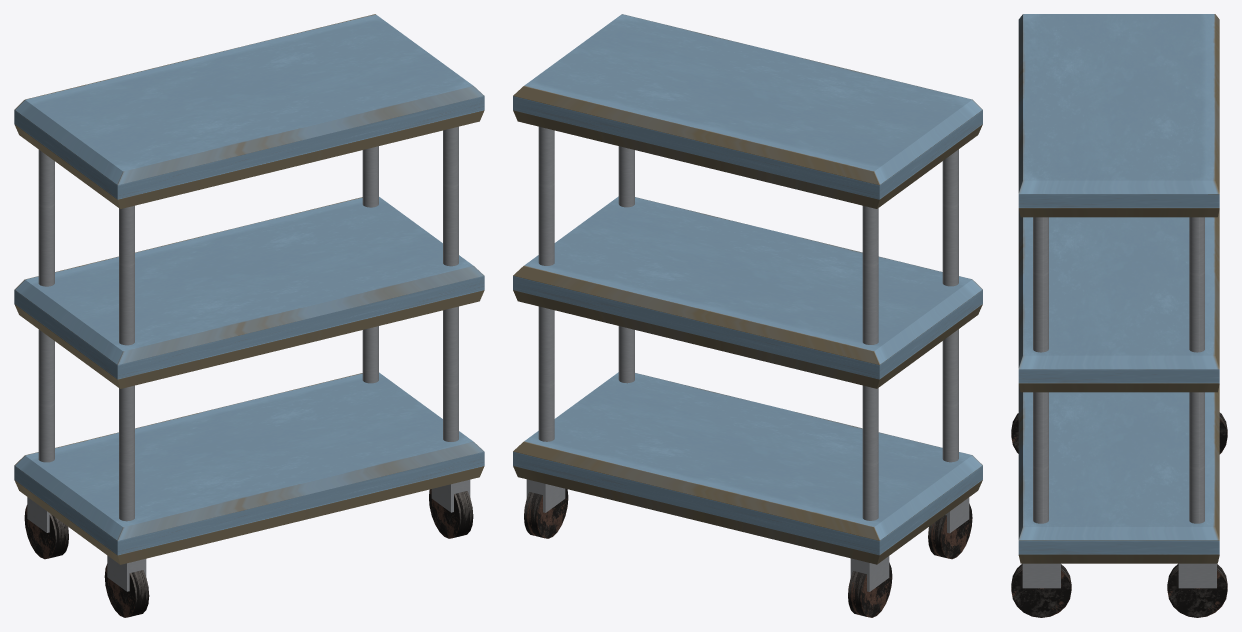
The model's file is Instrument Table.fbx.
The picture shows the model from 3 angles, left to right: view 1: azimuth 30°, elevation 25°; view 2: azimuth 150°, elevation 25°; view 3: azimuth 270°, elevation 25°; orthographic projection. The views are drawn at different scales.
Parts seen in each view (by area): view 1: Instrument_Table_Top, Instrument_Table_Middle, Instrument_Table_Bottom, Tire (×3), Pole8, Pole5, Pole6, Pole4, Pole1, Pole2, Pole7, Pole3 (+2 smaller); view 2: Instrument_Table_Top, Instrument_Table_Bottom, Instrument_Table_Middle, Tire (×3), Pole8, Pole7, Pole3, Pole4, Pole5, Pole1, Pole6, Pole2 (+2 smaller); view 3: Instrument_Table_Top, Instrument_Table_Middle, Instrument_Table_Bottom, Tire (×2), Pole7, Pole6, Pole2, Pole3, TireHolder3, TireHolder4.
Boxes of the visible parts, <box> form: Instrument_Table_Top: <box>14,14,484,208</box>; Instrument_Table_Middle: <box>14,197,484,388</box>; Instrument_Table_Bottom: <box>14,372,484,564</box>; Tire (×3): <box>24,489,473,617</box>; Pole8: <box>38,150,54,286</box>; Pole5: <box>119,205,134,345</box>; Pole6: <box>443,126,458,266</box>; Pole4: <box>38,329,54,462</box>; Pole1: <box>119,385,134,521</box>; Pole2: <box>443,306,458,441</box>; Pole7: <box>362,146,378,207</box>; Pole3: <box>362,326,378,383</box>; Instrument_Table_Top: <box>513,14,982,208</box>; Instrument_Table_Bottom: <box>513,372,982,564</box>; Instrument_Table_Middle: <box>513,196,982,388</box>; Tire (×3): <box>524,488,972,617</box>; Pole8: <box>862,206,878,344</box>; Pole7: <box>538,126,554,265</box>; Pole3: <box>538,306,554,441</box>; Pole4: <box>862,385,878,520</box>; Pole5: <box>942,149,958,286</box>; Pole1: <box>942,329,958,462</box>; Pole6: <box>618,146,634,207</box>; Pole2: <box>618,326,634,383</box>; Instrument_Table_Top: <box>1018,14,1219,217</box>; Instrument_Table_Middle: <box>1018,209,1219,392</box>; Instrument_Table_Bottom: <box>1018,385,1219,563</box>; Tire (×2): <box>1011,563,1227,617</box>; Pole7: <box>1189,217,1204,352</box>; Pole6: <box>1033,217,1048,352</box>; Pole2: <box>1033,392,1048,523</box>; Pole3: <box>1189,392,1204,523</box>; TireHolder3: <box>1178,563,1216,588</box>; TireHolder4: <box>1022,563,1060,588</box>.
Size of the model in its own units: 2.48 by 2.92 by 1.3.
Materials: 3 (3 with a texture image).
